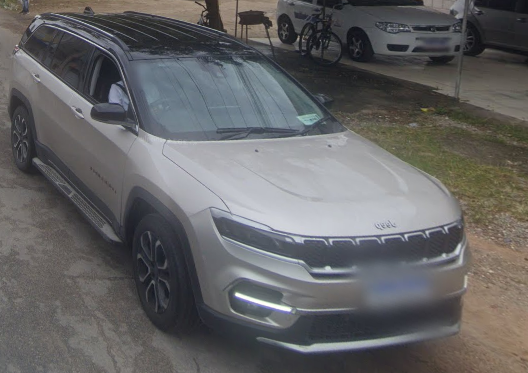car: (11, 11, 471, 353)
